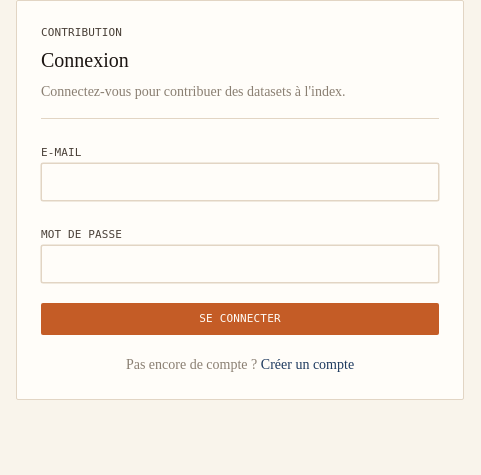
it: ResearcherLoginForm (Story 3.4) › affiche le message d'erreur du serveur sans stocker de jeton
Type "kofi@example.com" into the field labelled "E-mail" at (240, 182), box [41,162,439,200]
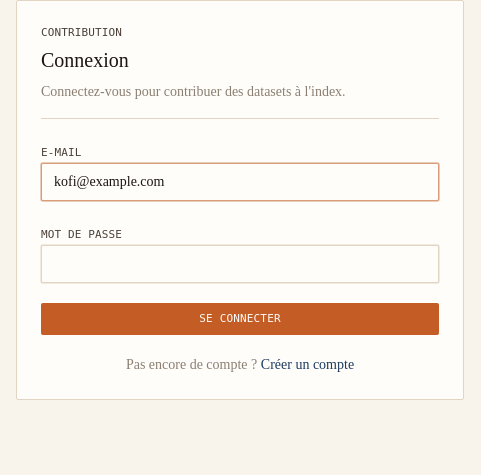
Type "mauvais" into the password field labelled "Mot de passe" at (240, 264), box [41,244,439,282]
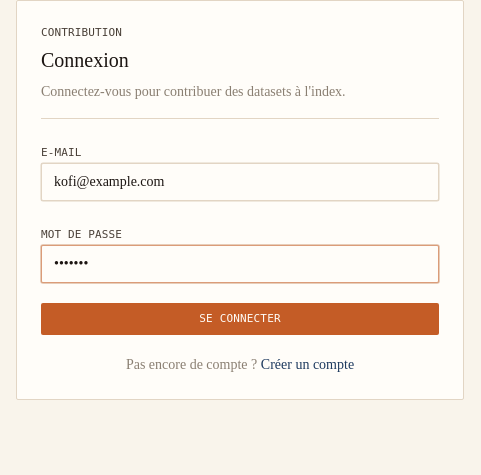
Click the button "Se connecter" at (240, 319), box [41,302,439,335]
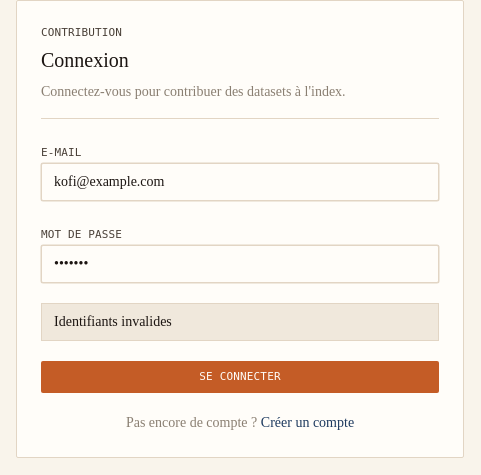
expect the text "Identifiants invalides" is shown: met, box [41,302,439,340]
